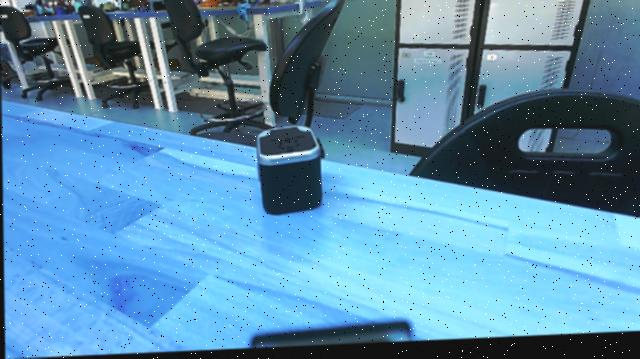adapter: (247, 121, 330, 221)
